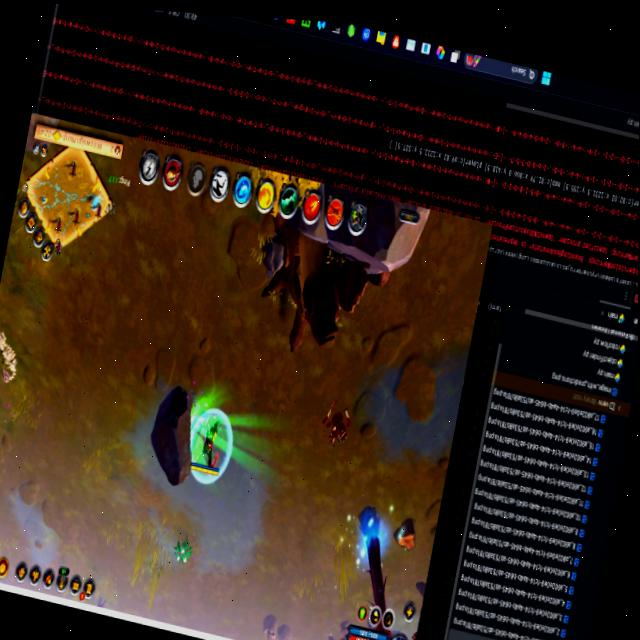hide: (167, 529, 198, 574)
red: (185, 400, 234, 486)
wisp caged: (324, 494, 437, 640)
